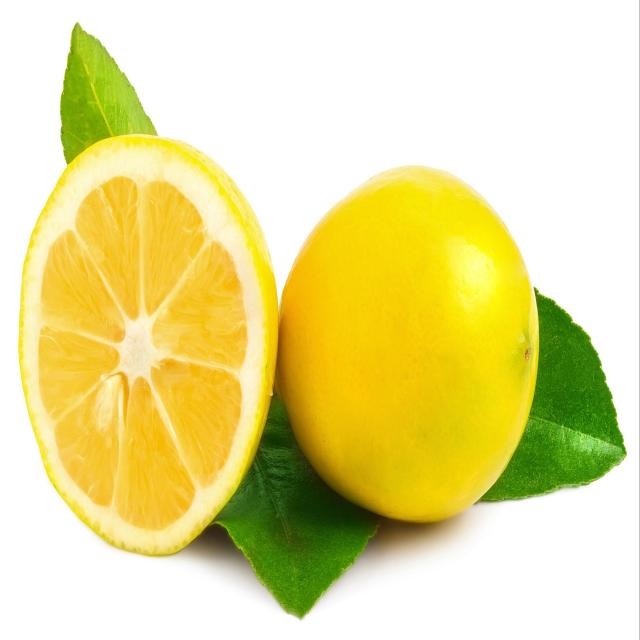lemon: (12, 125, 281, 563), (264, 159, 544, 533)
